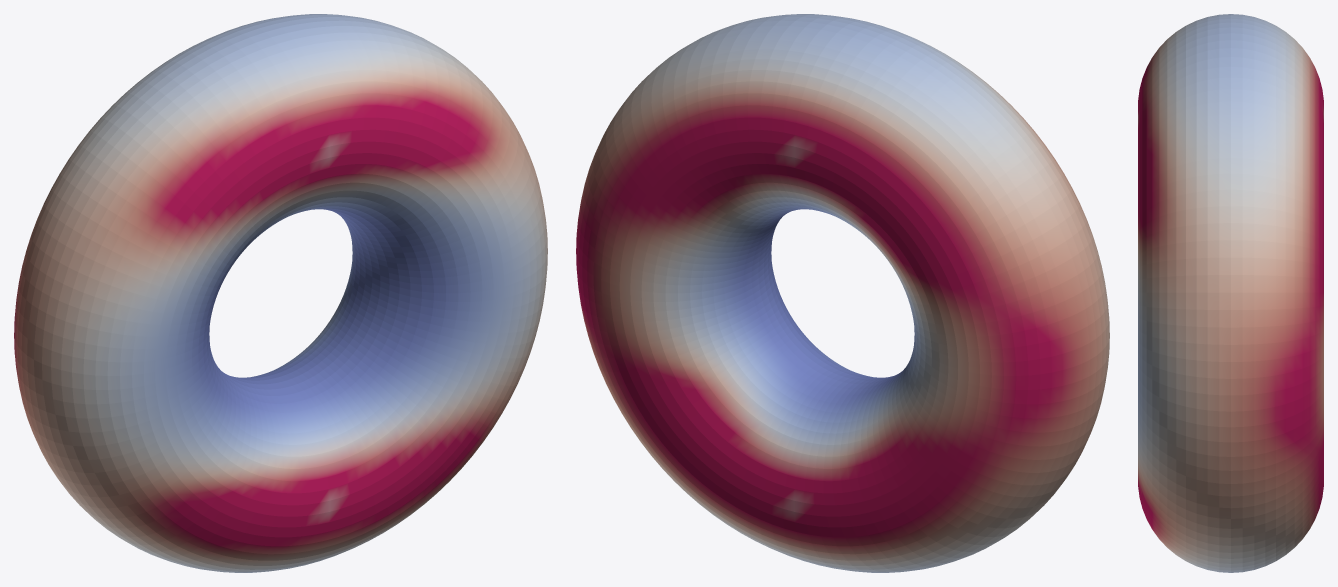
3 renders of one model, left to right at view 1: azimuth 30°, elevation 25°; view 2: azimuth 150°, elevation 25°; view 3: azimuth 270°, elevation 25°, orthographic. The views are drawn at different scales.
Parts seen in each view (by area): view 1: world; view 2: world; view 3: world.
Boxes of the visible parts, left/top/right/bottom form: world: left=14, top=14, right=547, bottom=572; world: left=576, top=14, right=1109, bottom=572; world: left=1138, top=14, right=1323, bottom=572.
Bounding box in the file's own units: 22 × 22 × 7.32.
